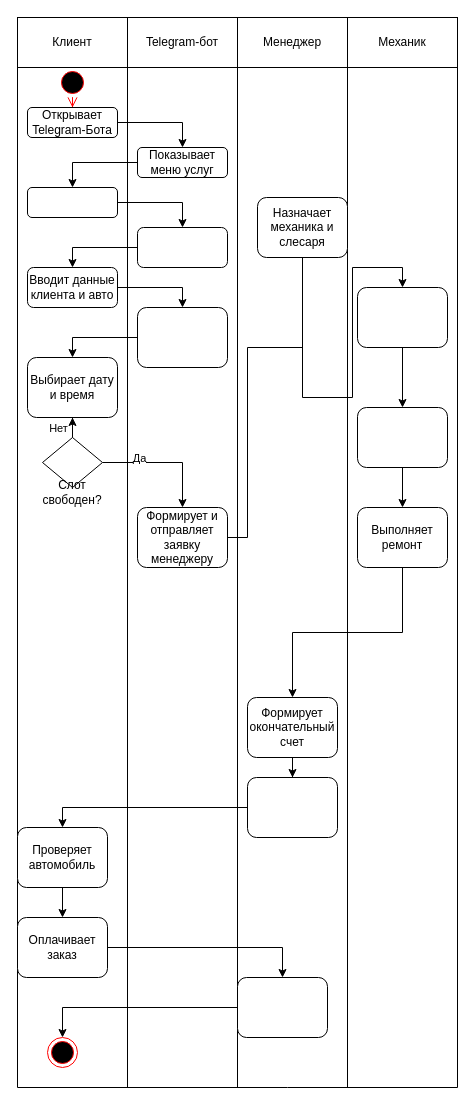
The diagram is 476 pixels wide and 1106 high, and some of its shapes have lost their labels. Each missing label, with the centre of its shape:
"Выбирает тип услуги" goes at [72,202].
"Выполняет диагностику" goes at [402,437].
"Закрывает заказ" goes at [282,1007].
"Запрашивает данные клиента и авто" goes at [182,247].
"Передает автомобиль и документы клиенту" goes at [292,807].
"Показывает доступные слоты по дате/время" goes at [182,337].
"Формирует план работ" goes at [402,317].
